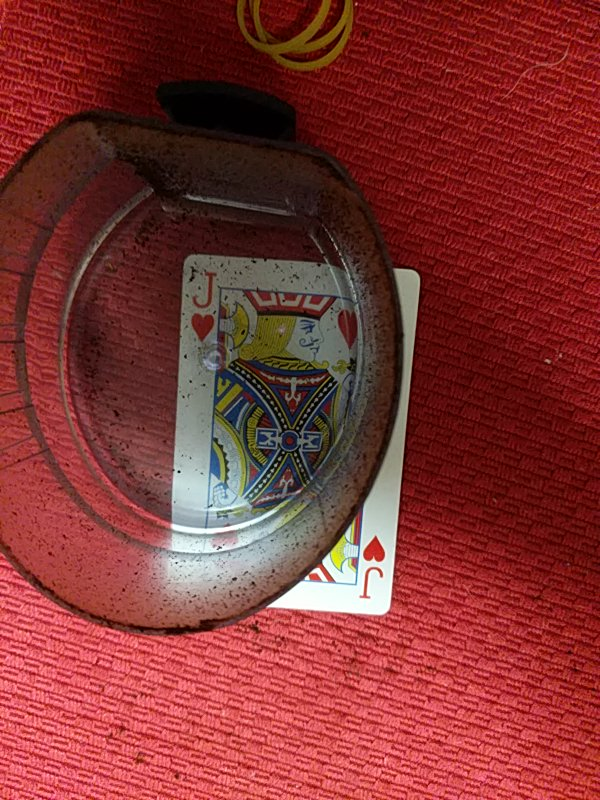Hearts: (168, 256, 420, 615)
